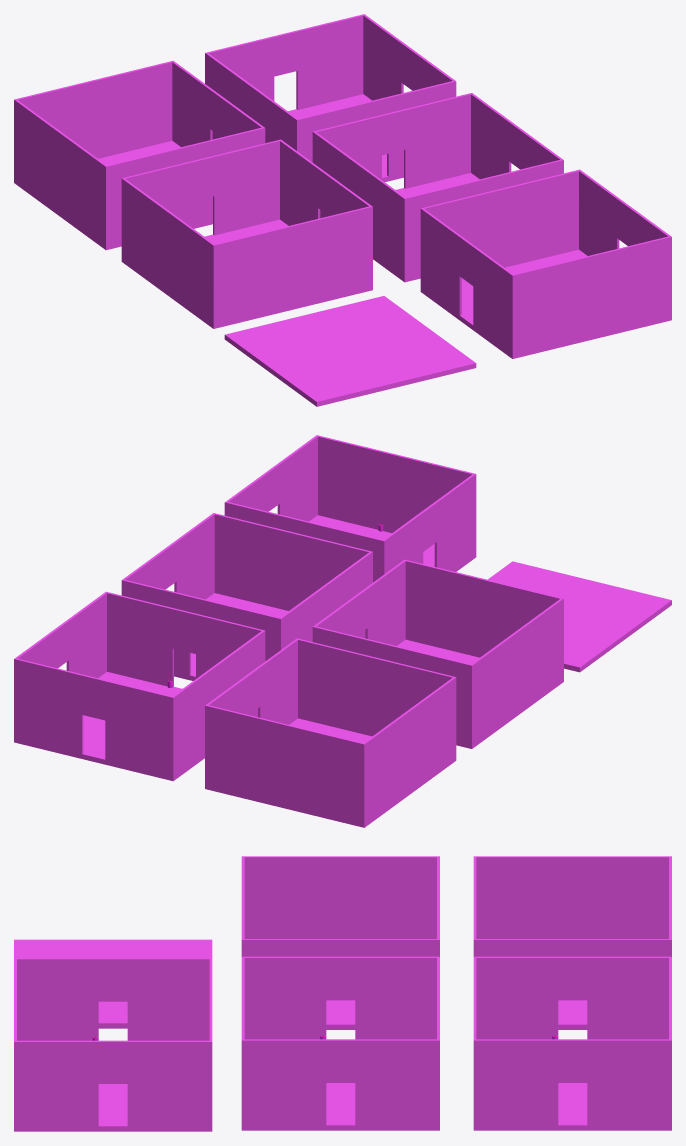
The model's file is rooms_collection.gltf.
3 renders of one model, top to bottom at view 1: azimuth 30°, elevation 25°; view 2: azimuth 150°, elevation 25°; view 3: azimuth 270°, elevation 25°, orthographic. The views are drawn at different scales.
Parts seen in each view (by area): view 1: CSGBox3D12, Wall47, Wall73, Wall54, Wall67, Wall37, Wall7, Wall20, Wall41, Wall57, Wall70, Wall25 (+14 smaller); view 2: Wall54, Wall7, Wall47, Wall28, Wall73, Wall60, Wall13, CSGBox3D12, Wall57, Wall41, Wall70, Wall10 (+14 smaller); view 3: Wall41, Wall57, Wall64, Wall4, Wall17, Wall10, Wall25, Wall70, CSGBox3D12, Wall34, Wall51, CSGBox3D2 (+7 smaller).
Part boxes in pixels (<box>): CSGBox3D12: <box>224,296,476,406</box>; Wall47: <box>212,206,372,323</box>; Wall73: <box>511,236,671,353</box>; Wall54: <box>14,61,173,178</box>; Wall67: <box>421,170,579,287</box>; Wall37: <box>121,140,281,257</box>; Wall7: <box>205,14,363,109</box>; Wall20: <box>313,93,470,188</box>; Wall41: <box>121,178,215,323</box>; Wall57: <box>14,99,107,244</box>; Wall70: <box>420,208,514,353</box>; Wall25: <box>312,131,406,277</box>; Wall54: <box>206,704,365,822</box>; Wall7: <box>16,658,174,776</box>; Wall47: <box>403,559,563,677</box>; Wall28: <box>214,513,371,610</box>; Wall73: <box>316,435,476,551</box>; Wall60: <box>298,639,455,736</box>; Wall13: <box>106,592,263,687</box>; CSGBox3D12: <box>488,561,671,672</box>; Wall57: <box>364,677,456,821</box>; Wall41: <box>471,598,563,743</box>; Wall70: <box>383,473,476,572</box>; Wall10: <box>171,630,265,775</box>; Wall41: <box>242,856,439,938</box>; Wall57: <box>474,856,671,938</box>; Wall64: <box>14,1040,212,1126</box>; Wall4: <box>473,1039,671,1125</box>; Wall17: <box>241,1039,439,1125</box>; Wall10: <box>473,956,671,1039</box>; Wall25: <box>241,956,439,1039</box>; Wall70: <box>14,958,211,1040</box>; CSGBox3D12: <box>14,939,212,1028</box>; Wall34: <box>244,939,439,956</box>; Wall51: <box>476,939,671,956</box>; CSGBox3D2: <box>473,1083,671,1130</box>.
Bounding box in the file's own units: 75.75 × 17 × 113.
